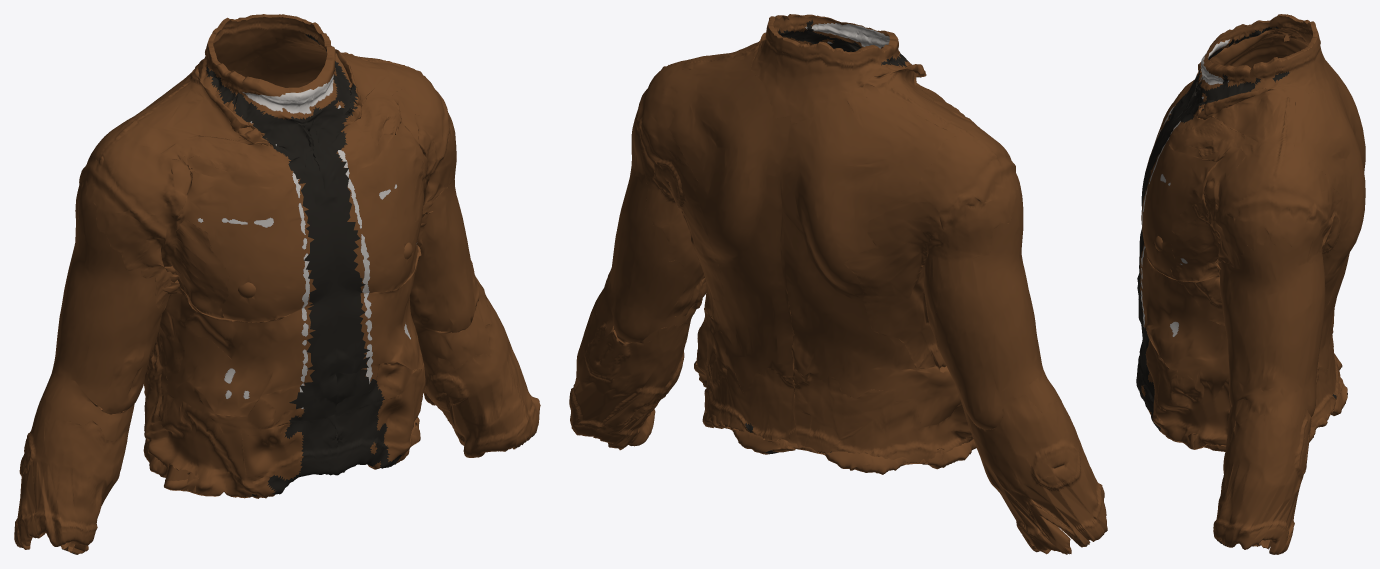
File: top_jacket.glb
3 renders of one model, left to right at view 1: azimuth 30°, elevation 25°; view 2: azimuth 150°, elevation 25°; view 3: azimuth 270°, elevation 25°, orthographic. The views are drawn at different scales.
Visible parts, largest first — view 1: top_jacket; view 2: top_jacket; view 3: top_jacket.
Boxes of the visible parts, left/top/right/bottom form: top_jacket: left=14, top=14, right=540, bottom=554; top_jacket: left=569, top=14, right=1107, bottom=554; top_jacket: left=1136, top=14, right=1365, bottom=554.
Bounding box in the file's own units: 0.6424 × 0.5561 × 0.2696.
Materials: 1 (1 with a texture image).
